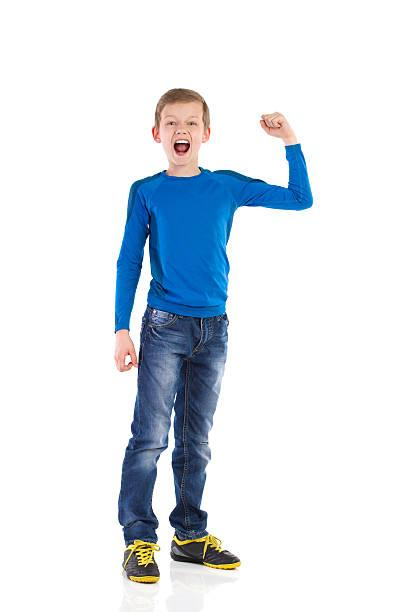Human: (101, 89, 280, 580)
